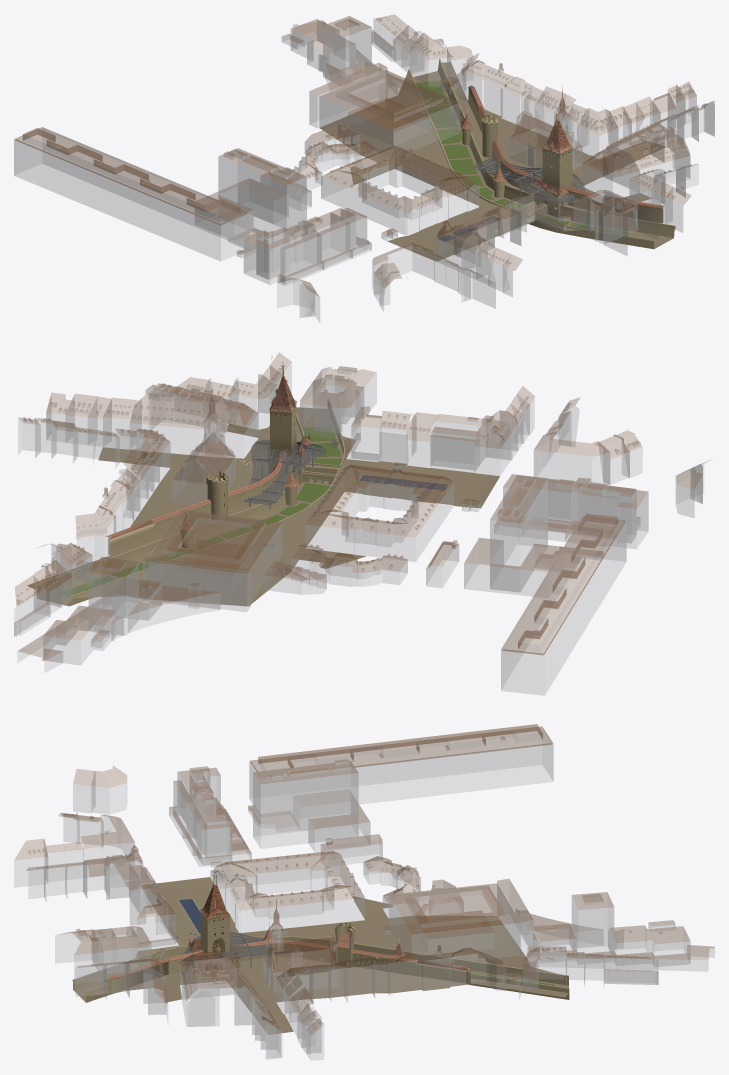
The model's file is Bern-Bahnhofsplatz.fbx.
The picture shows the model from 3 angles, top to bottom: view 1: azimuth 30°, elevation 25°; view 2: azimuth 150°, elevation 25°; view 3: azimuth 270°, elevation 25°; orthographic projection. The views are drawn at different scales.
Visible parts, largest first — view 1: Umgebung-Fassaden, Umgebung-Daecher, Boden, Graben-Mauern, Graben-Grass, Mauer-Wand, Christoffel-Turm, Baldachin-Glas, Mauer-Weg, Mauer-Dach, Baldachin-Stahl, Christoffel-Basis (+1 smaller); view 2: Umgebung-Fassaden, Umgebung-Daecher, Boden, Graben-Mauern, Graben-Grass, Mauer-Wand, Baldachin-Glas, Christoffel-Turm, Baldachin-Stahl, Mauer-Dach, Mauer-Turm, Mauer-Weg (+2 smaller); view 3: Umgebung-Fassaden, Umgebung-Daecher, Boden, Graben-Mauern, Mauer-Wand, Christoffel-Turm, Mauer-Dach, Baldachin-Glas, Baldachin-Stahl, Mauer-Turm, Christoffel-Basis, Mauer-Weg (+1 smaller).
Part boxes in pixels (x1,y1,x2,y2): Umgebung-Fassaden: [14, 16, 714, 322]; Umgebung-Daecher: [15, 14, 712, 296]; Boden: [319, 71, 665, 261]; Graben-Mauern: [408, 59, 675, 249]; Graben-Grass: [413, 71, 673, 248]; Mauer-Wand: [468, 89, 663, 223]; Christoffel-Turm: [542, 107, 573, 191]; Baldachin-Glas: [475, 158, 585, 202]; Mauer-Weg: [442, 62, 586, 210]; Mauer-Dach: [468, 85, 664, 208]; Baldachin-Stahl: [475, 158, 585, 210]; Christoffel-Basis: [528, 173, 568, 210]; Umgebung-Fassaden: [14, 355, 703, 695]; Umgebung-Daecher: [15, 352, 709, 660]; Boden: [71, 424, 499, 606]; Graben-Mauern: [35, 399, 345, 606]; Graben-Grass: [38, 407, 343, 606]; Mauer-Wand: [108, 460, 285, 555]; Baldachin-Glas: [243, 440, 326, 504]; Christoffel-Turm: [269, 362, 297, 456]; Baldachin-Stahl: [245, 439, 326, 509]; Mauer-Dach: [106, 388, 286, 538]; Mauer-Turm: [206, 471, 228, 520]; Mauer-Weg: [27, 421, 302, 588]; Umgebung-Fassaden: [14, 727, 714, 1060]; Umgebung-Daecher: [15, 724, 714, 1034]; Boden: [109, 877, 556, 1034]; Graben-Mauern: [72, 936, 569, 1002]; Mauer-Wand: [107, 944, 470, 994]; Christoffel-Turm: [200, 871, 230, 961]; Mauer-Dach: [107, 940, 469, 980]; Baldachin-Glas: [184, 933, 316, 965]; Baldachin-Stahl: [184, 932, 317, 972]; Mauer-Turm: [335, 922, 355, 967]; Christoffel-Basis: [188, 933, 240, 971]; Mauer-Weg: [88, 978, 568, 997].
Size of the model in its own units: 413 by 69.46 by 418.
